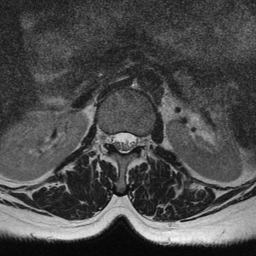CCS_normal: (119, 124, 129, 160)
LFS_normal: (137, 131, 145, 151)
LLS_normal: (129, 125, 137, 154)
RFS_normal: (103, 128, 111, 151)
RLS_normal: (111, 126, 120, 152)
